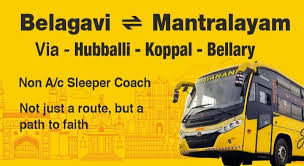bus: (173, 62, 304, 166)
